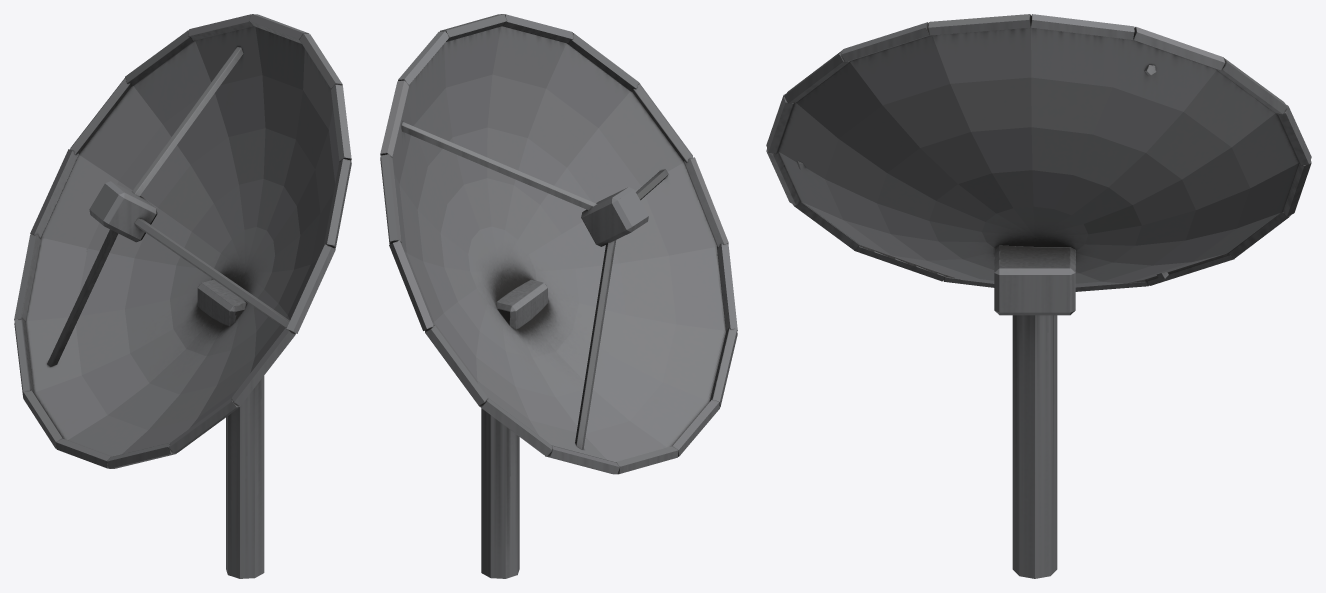
The model's file is nodexeus-set-dish.glb.
3 views of the same model, side by side, from view 1: azimuth 30°, elevation 25°; view 2: azimuth 150°, elevation 25°; view 3: azimuth 270°, elevation 25° (orthographic). The views are drawn at different scales.
Parts seen in each view (by area): view 1: set-dish; view 2: set-dish; view 3: set-dish.
Part boxes in pixels (bbox=[...]): set-dish: bbox=[14, 14, 351, 578]; set-dish: bbox=[380, 14, 737, 578]; set-dish: bbox=[766, 14, 1311, 578].
Bounding box in the file's own units: 0.8599 × 1.75 × 1.48.
1 material, 1 textured.
